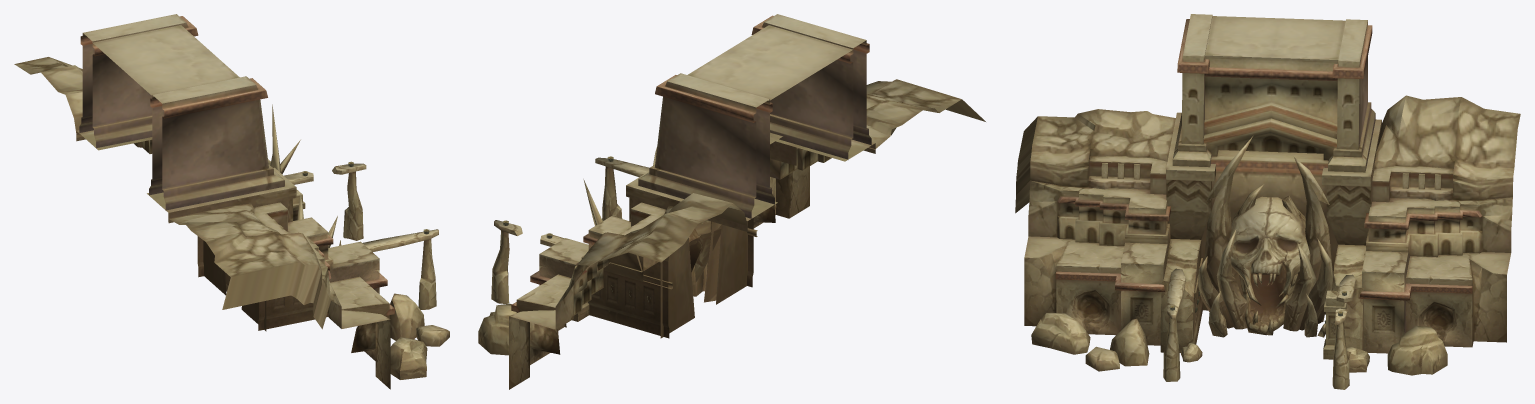
File: stone_14.FBX
The picture shows the model from 3 angles, left to right: view 1: azimuth 30°, elevation 25°; view 2: azimuth 150°, elevation 25°; view 3: azimuth 270°, elevation 25°; orthographic projection. The views are drawn at different scales.
Parts seen in each view (by area): view 1: stone_14; view 2: stone_14; view 3: stone_14.
Boxes of the visible parts, x1=… form: stone_14: x1=14, y1=14, x2=449, y2=389; stone_14: x1=478, y1=14, x2=985, y2=389; stone_14: x1=1015, y1=14, x2=1520, y2=389.
Bounding box in the file's own units: 1232 × 987 × 1837.
